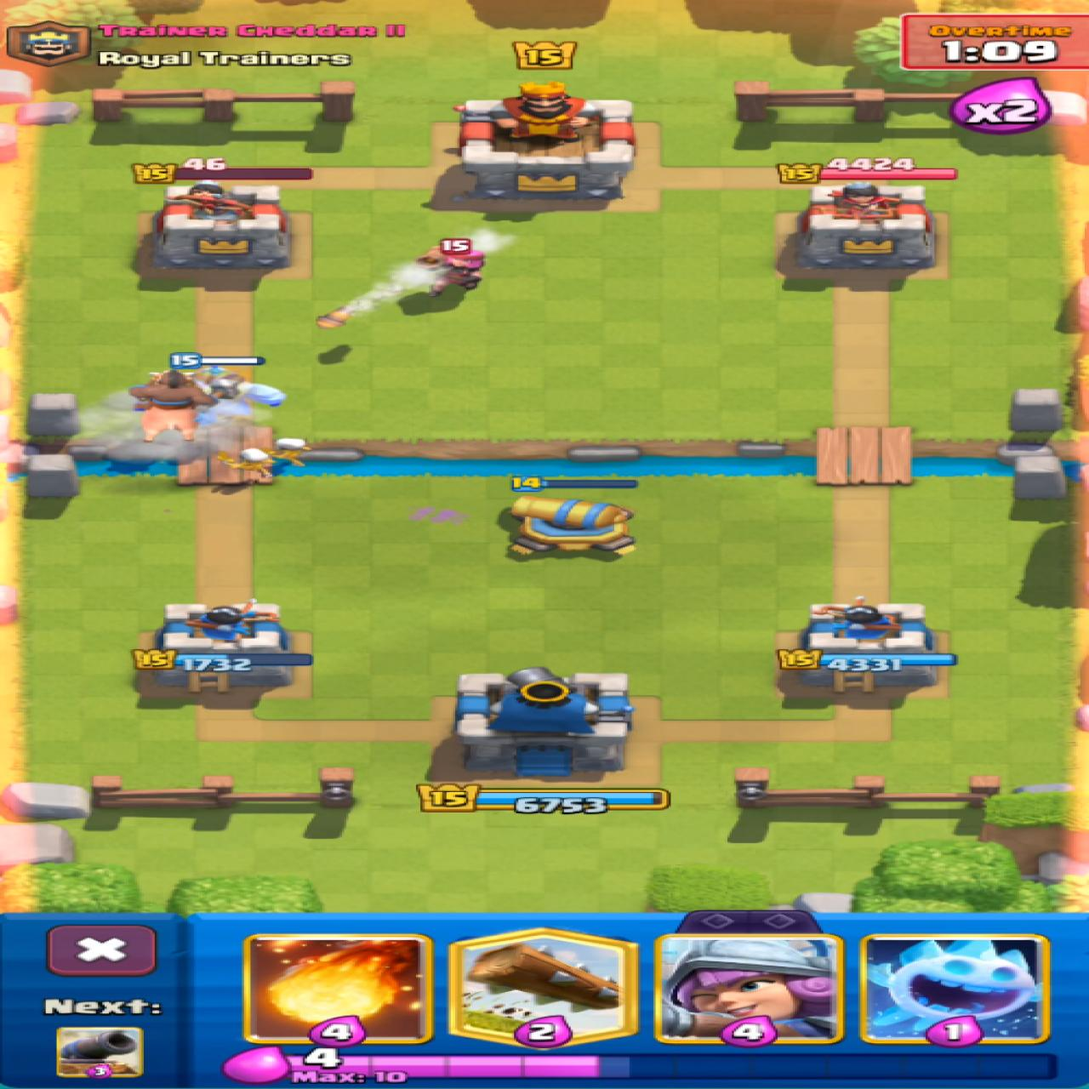Enemy-Firecracker: (416, 240, 484, 296)
Enemy-KingTower: (460, 83, 634, 199)
Enemy-PrincessTower: (795, 183, 932, 278), (150, 183, 290, 271)
